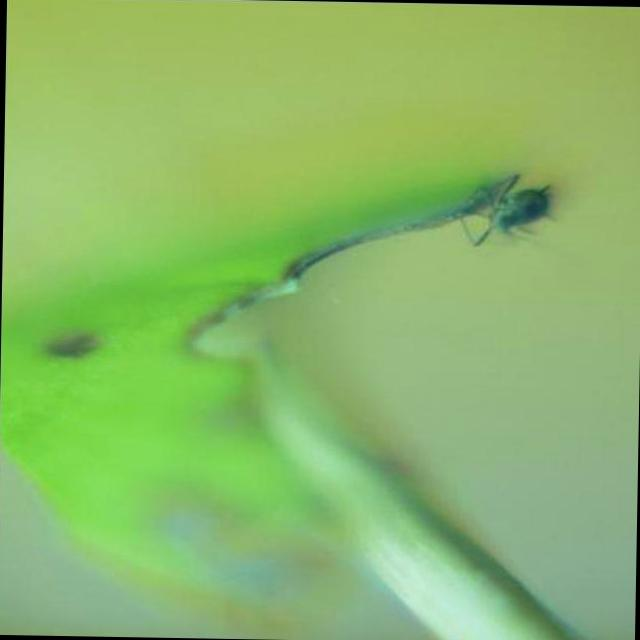aphid: (457, 168, 563, 255)
